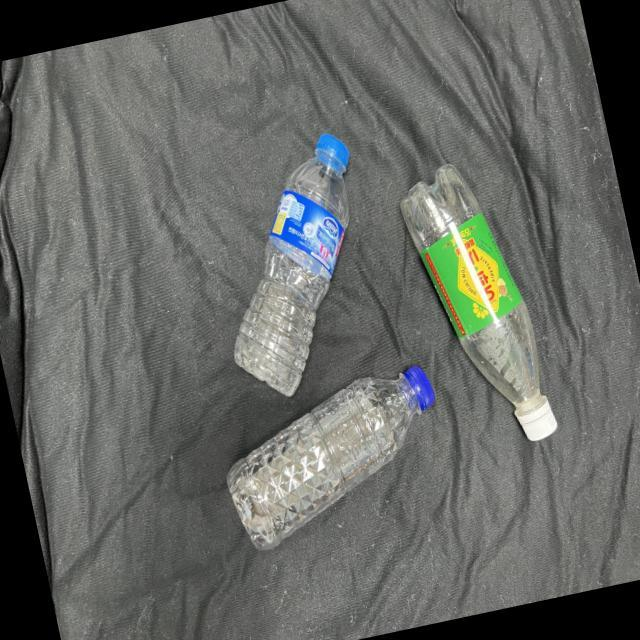good: (383, 143, 584, 473), (196, 333, 454, 575), (216, 112, 364, 413)
